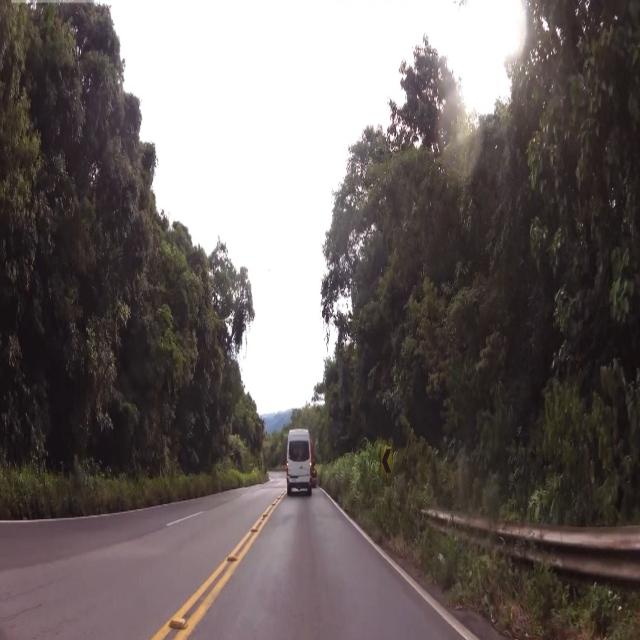Del: (380, 442, 393, 480)
